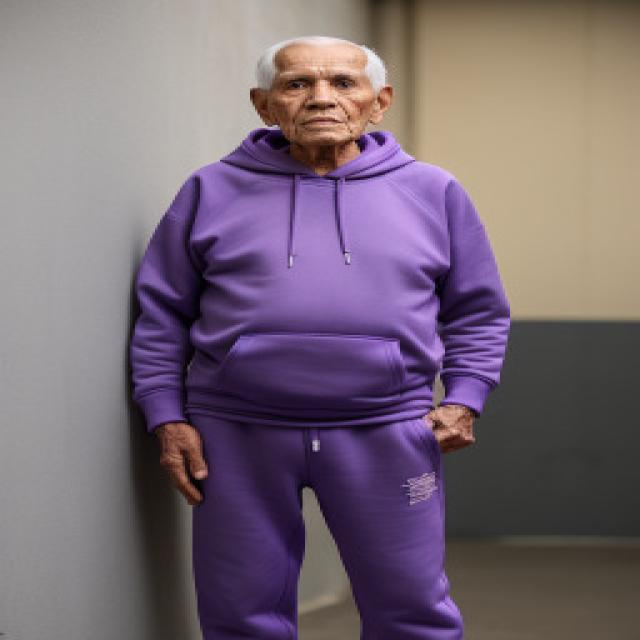Ai human 2: (116, 21, 534, 640)
